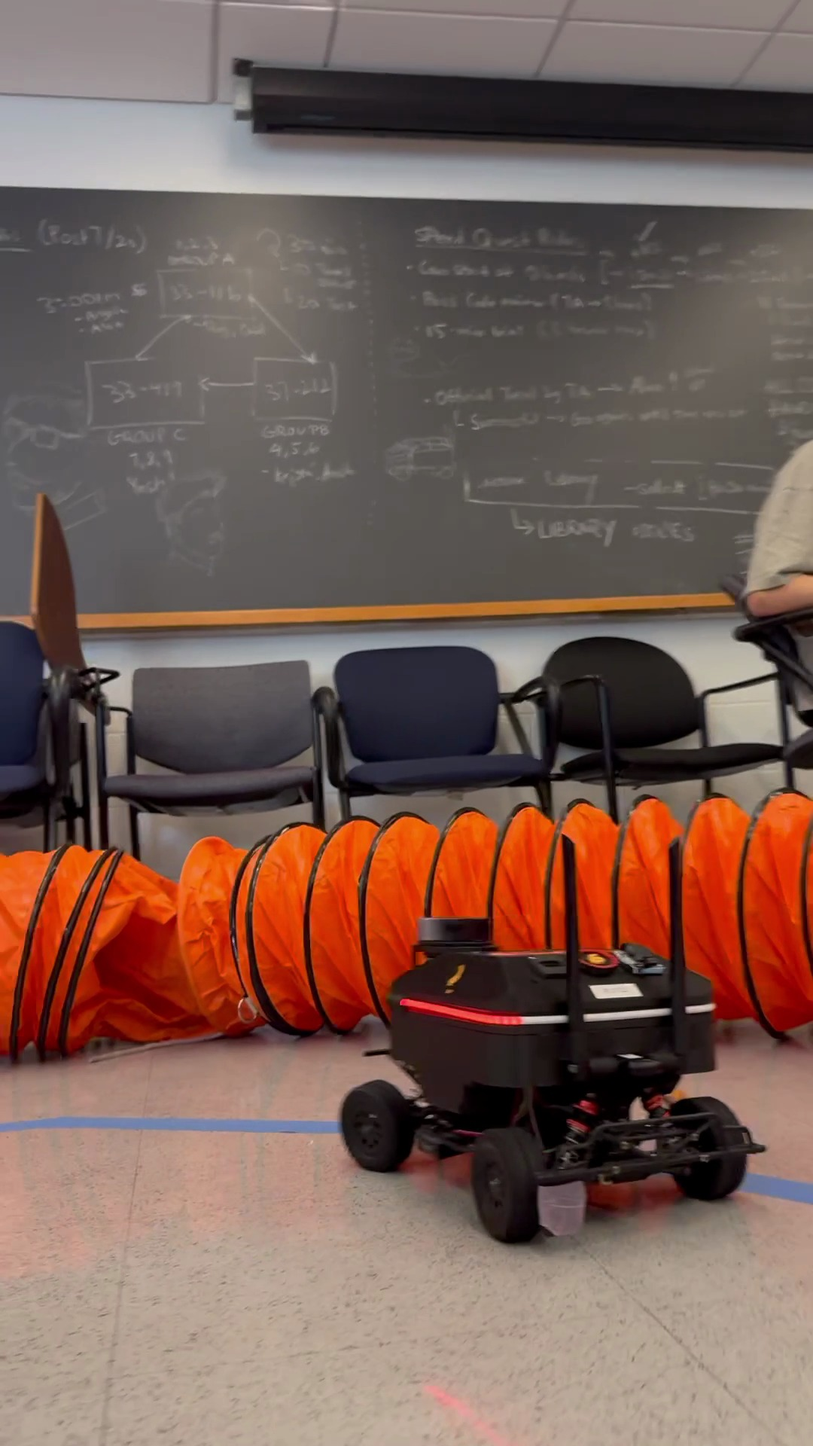racecar: (335, 820, 760, 1244)
